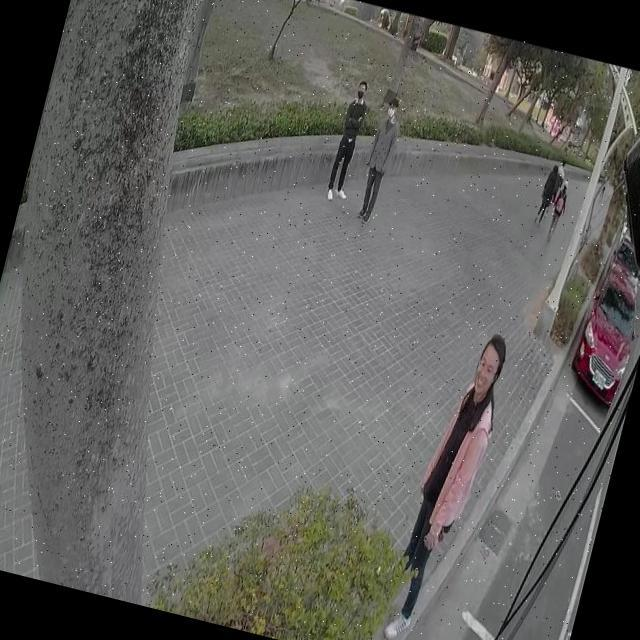person: (382, 326, 515, 640), (350, 93, 404, 224), (324, 77, 376, 204), (542, 178, 572, 240), (533, 164, 557, 222), (554, 151, 570, 179)
